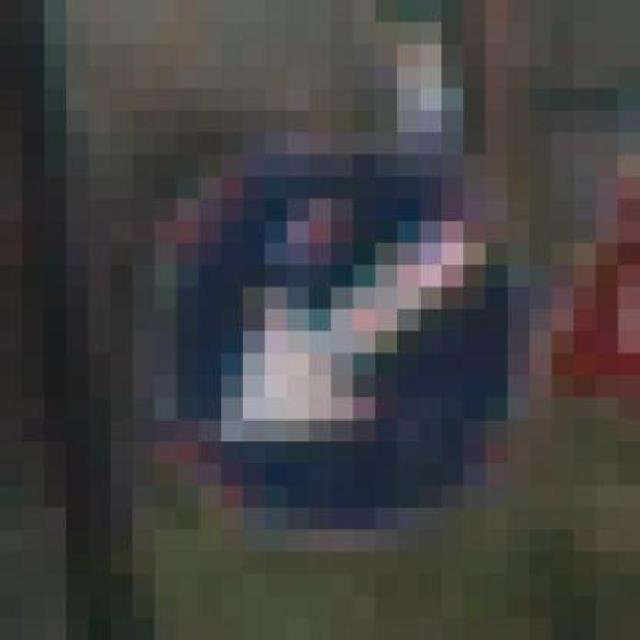Keep-Left: (132, 110, 552, 552)
